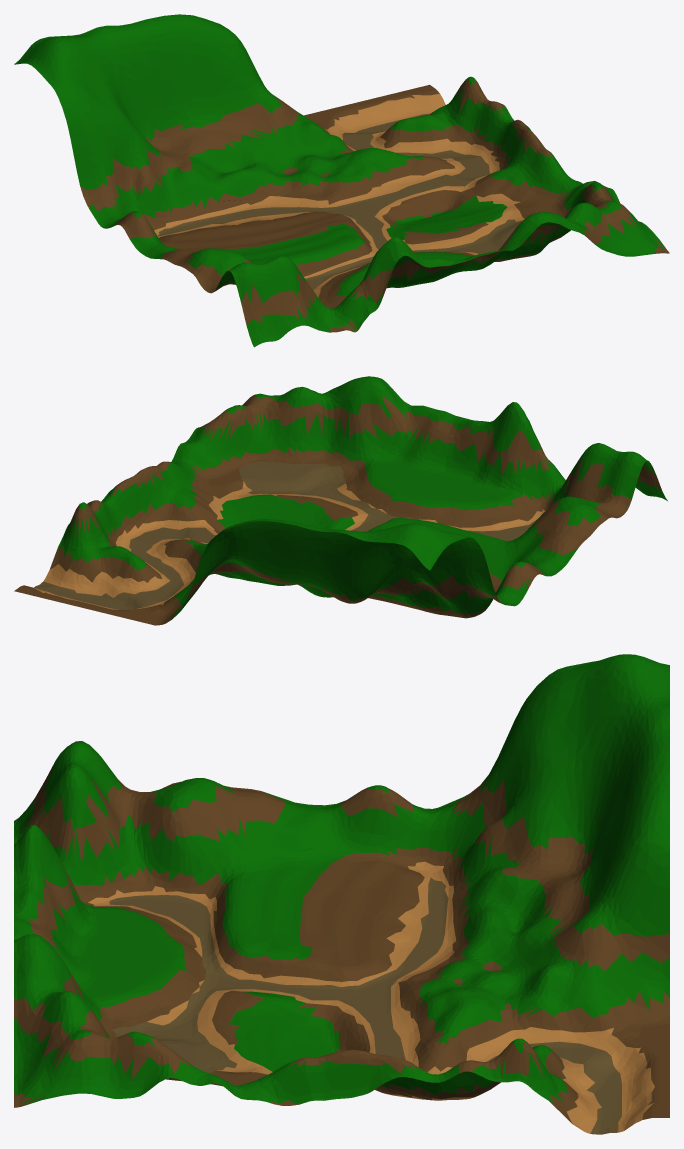
The model's file is world2.fbx.
The picture shows the model from 3 angles, top to bottom: view 1: azimuth 30°, elevation 25°; view 2: azimuth 150°, elevation 25°; view 3: azimuth 270°, elevation 25°; orthographic projection. The views are drawn at different scales.
Visible parts, largest first — view 1: Terrain; view 2: Terrain; view 3: Terrain.
Part boxes in pixels (x1,y1,x2,y2): Terrain: (14, 14, 669, 347); Terrain: (14, 376, 667, 625); Terrain: (14, 654, 669, 1134).
Size of the model in its own units: 19963 by 7495 by 19963.
